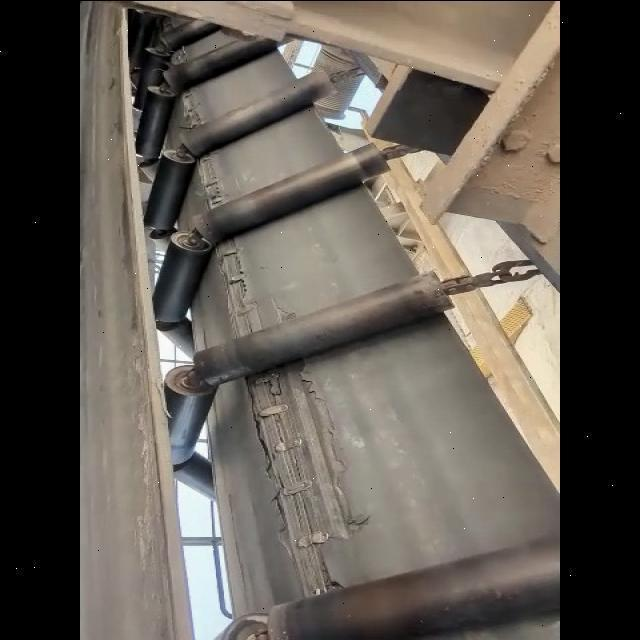Tear: (238, 361, 368, 596), (210, 239, 262, 336), (200, 160, 224, 206), (176, 98, 208, 119)
Wear: (260, 294, 302, 323)
